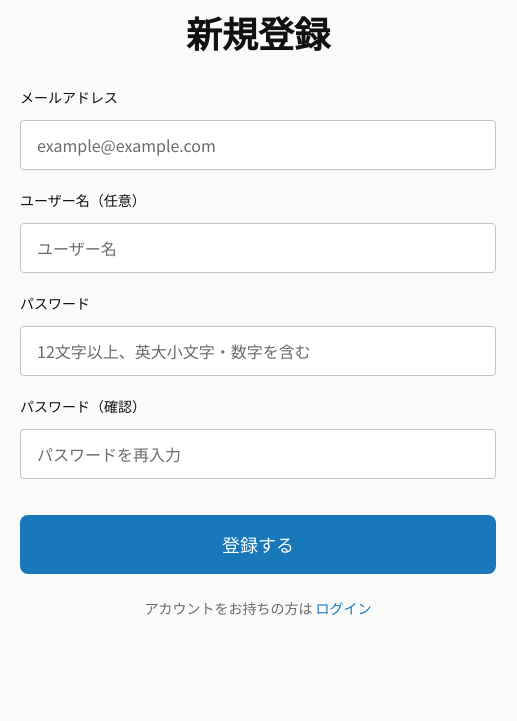
it: RegisterForm › 漏洩パスワードはサーバーの理由がそのまま表示される（#652）
In the field labelled "メールアドレス": (258, 145) [20,120,496,170], type "test@example.com"
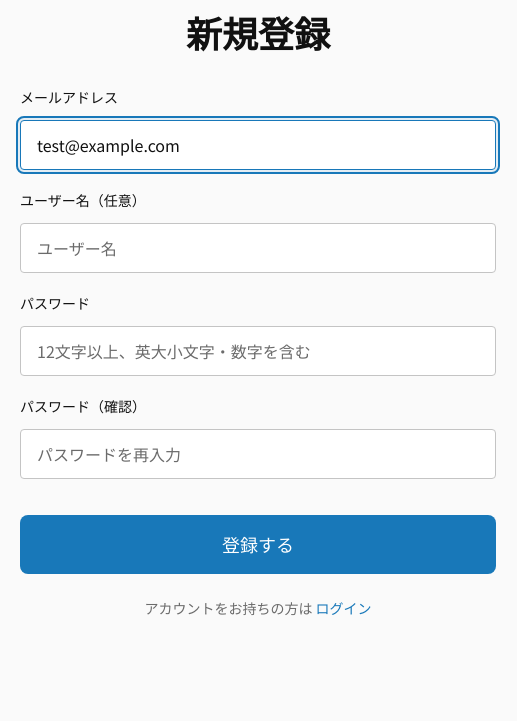
In the field labelled "ユーザー名（任意）": (258, 248) [20,223,496,273], type "テストユーザー"
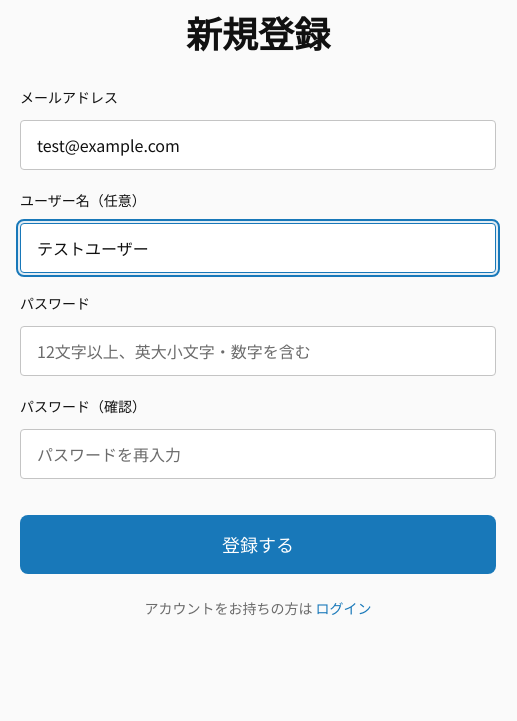
In the password field labelled "パスワード": (258, 351) [20,326,496,376], type "Password1234"
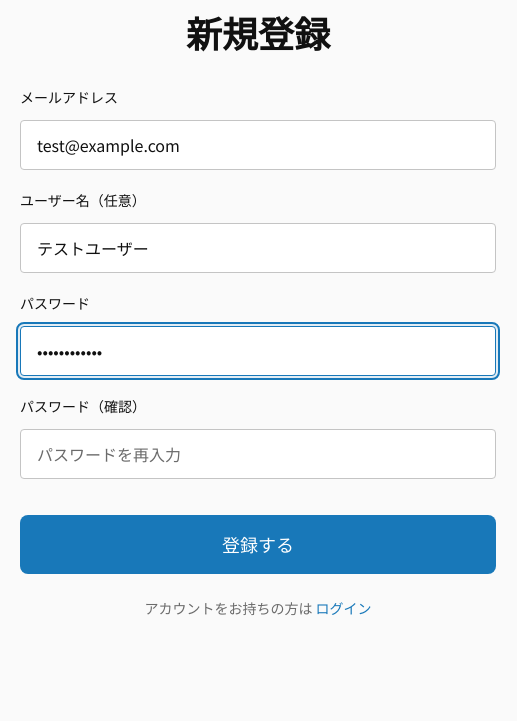
In the password field labelled "パスワード（確認）": (258, 454) [20,429,496,479], type "Password1234"
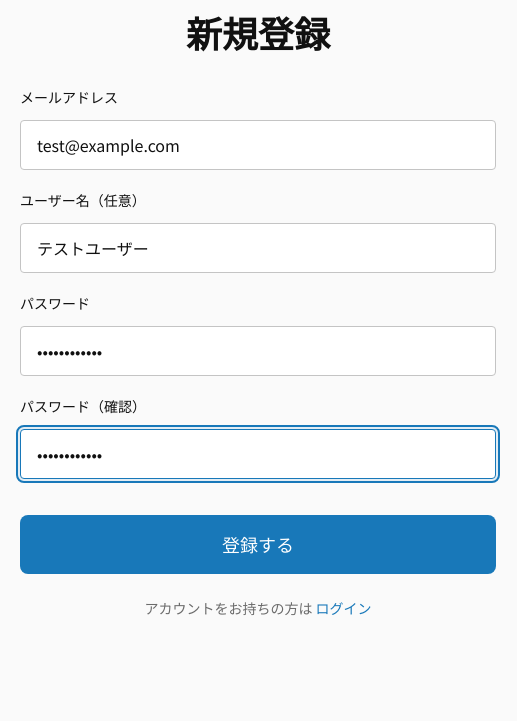
Click the button "登録する": (258, 544) [20,515,496,574]
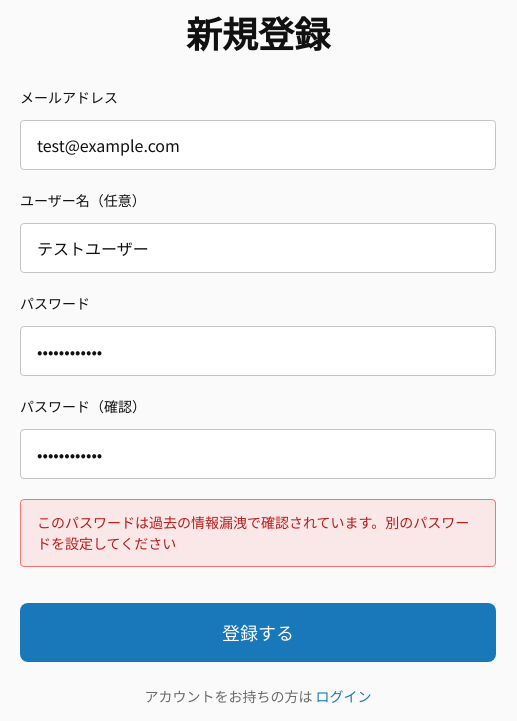
Now the message reads "このパスワードは過去の情報漏洩で確認されています。別のパスワードを設定してください", box [37,512,469,553]
